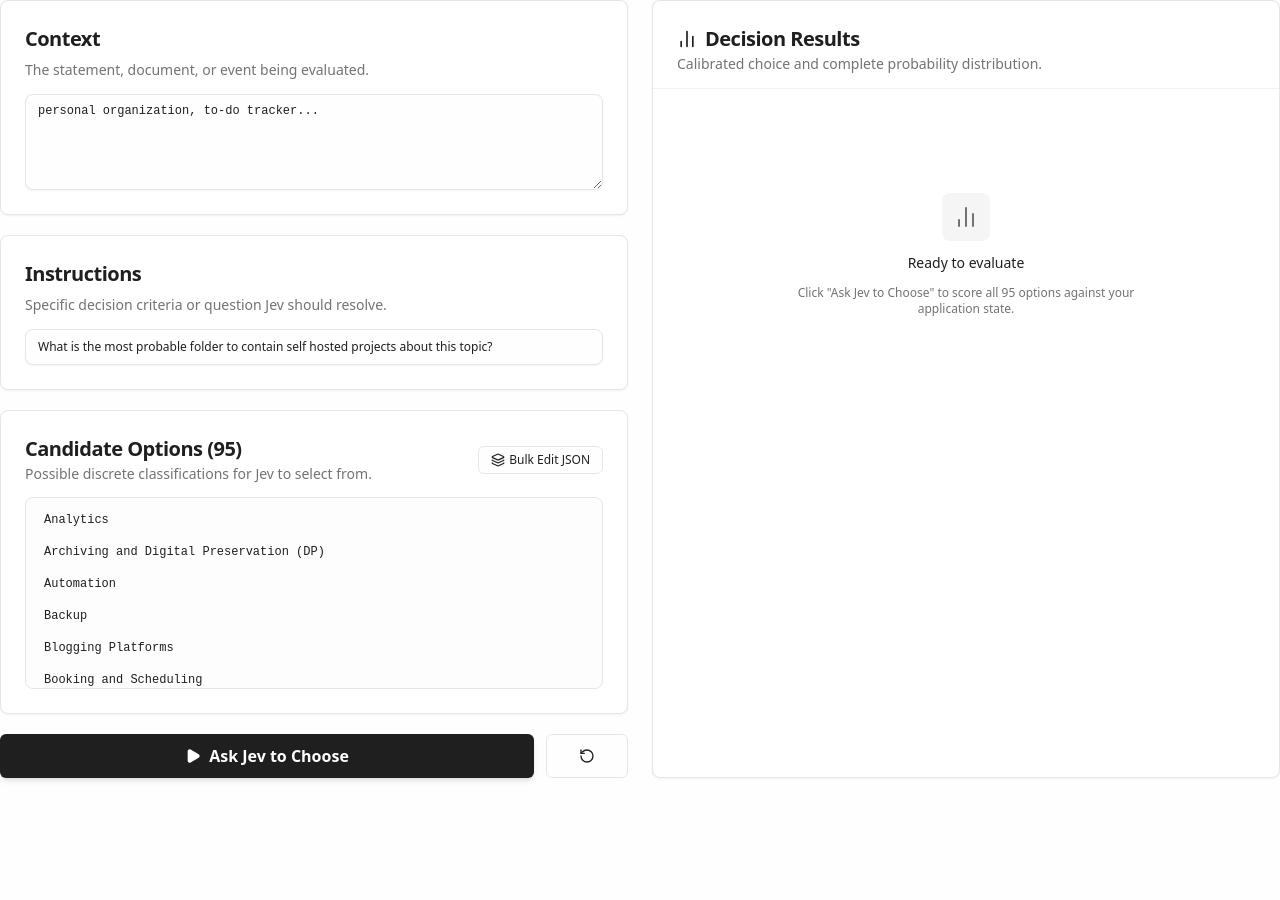
it: UI Components & User Workflows › allows opening raw API response modal and copying payload
What coordinates should you click on to do the following:
click the button "Ask Jev to Choose"
I would click on:
 (267, 756)
Its box is left=0, top=734, right=534, bottom=778.
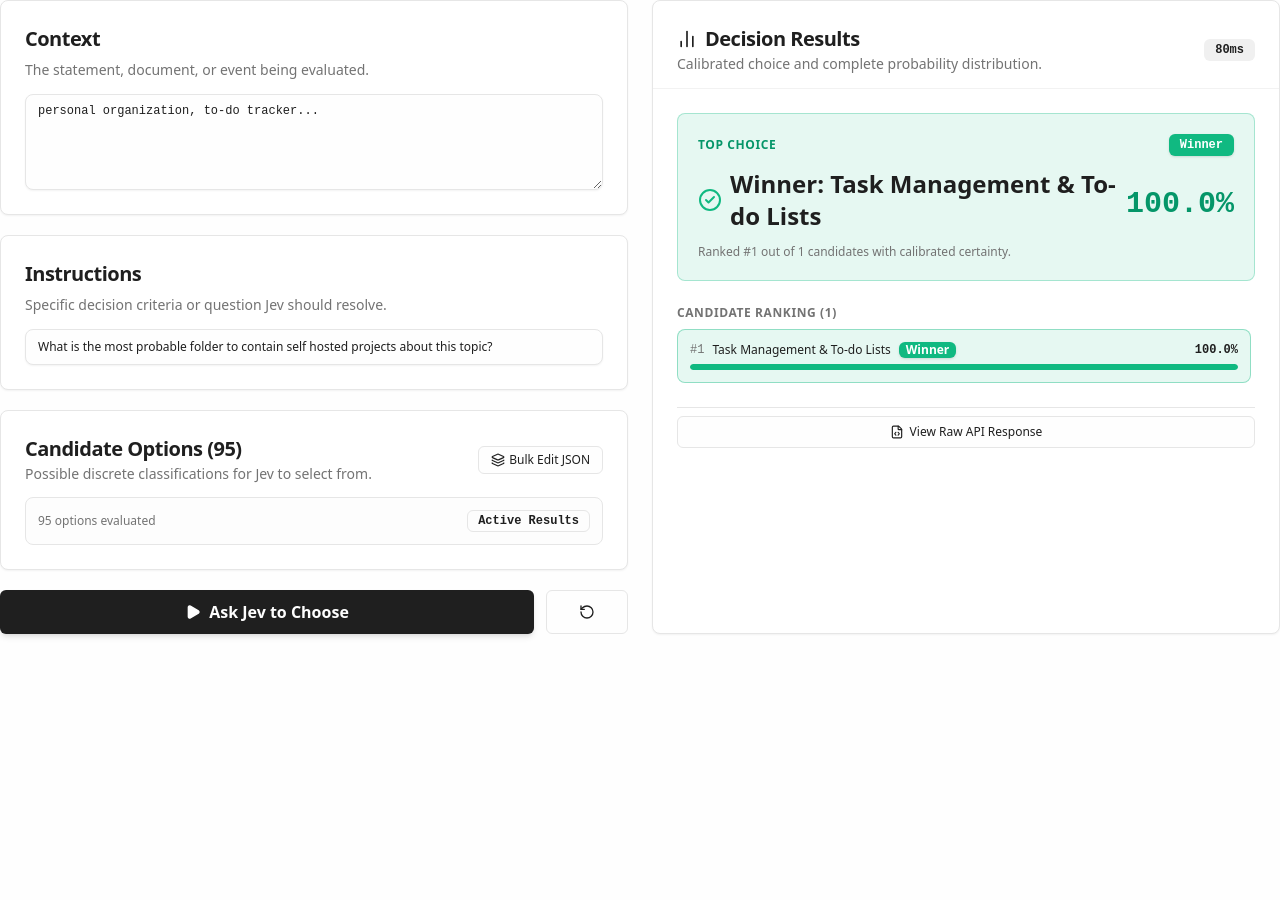
Now the button "View Raw API Response" is shown
What coordinates should you click on to do the following:
click the button "View Raw API Response"
I would click on:
 (966, 432)
Its box is left=677, top=416, right=1255, bottom=448.
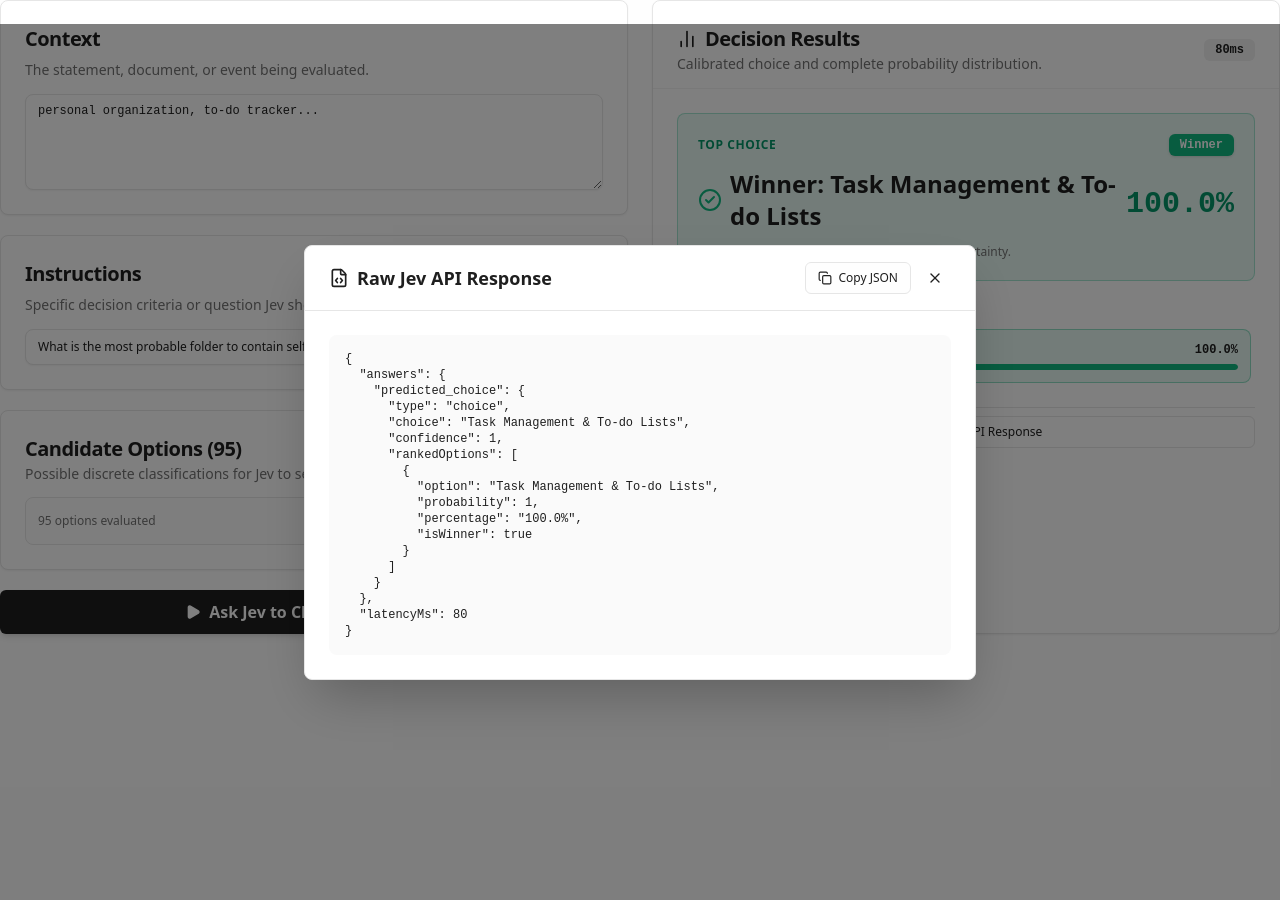
Now the heading "Raw Jev API Response" is shown, box left=357, top=264, right=552, bottom=292
Now the button "Copy JSON" is shown, box left=805, top=262, right=911, bottom=294
